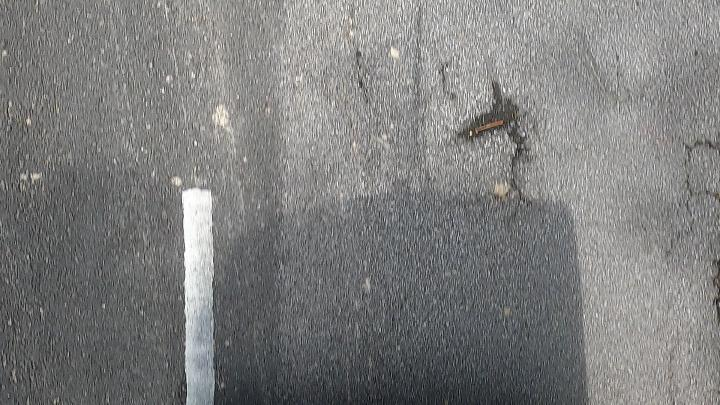Crack: (437, 75, 554, 201), (455, 79, 552, 200), (654, 120, 720, 266), (660, 132, 719, 256)
Lane: (172, 184, 224, 405), (182, 189, 213, 404)
